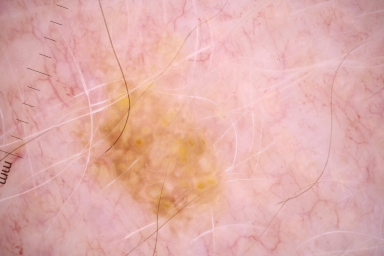melanoma: (97, 81, 219, 217)
